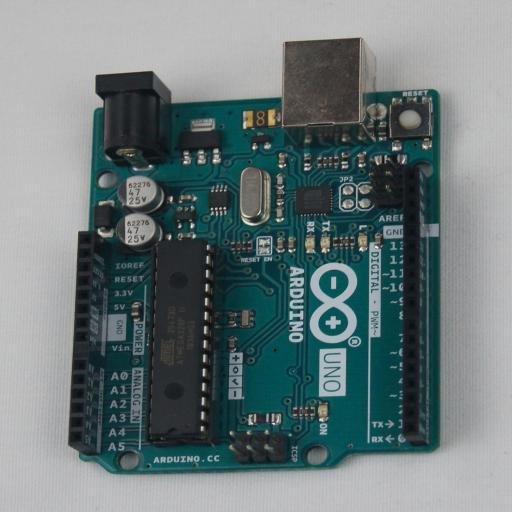Arduino Uno -Green-: (68, 38, 440, 474)
